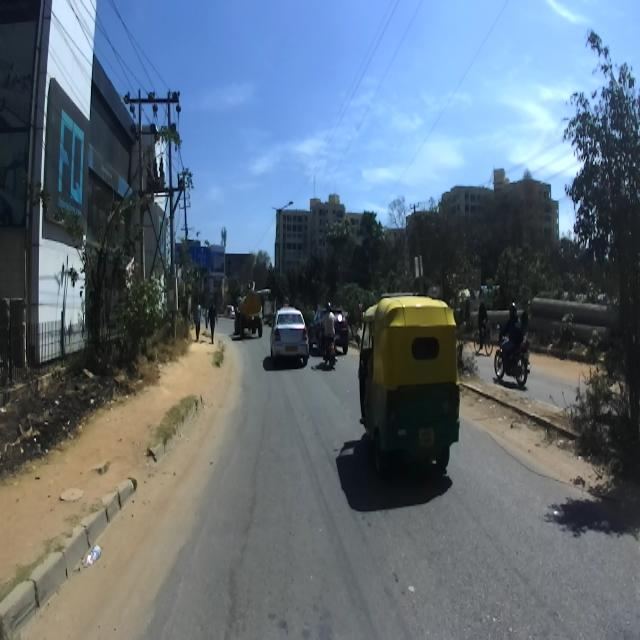auto ahead at: (355, 289, 462, 487)
car ahead at: (268, 297, 310, 369)
electric pole ahead at: (118, 86, 187, 357)
